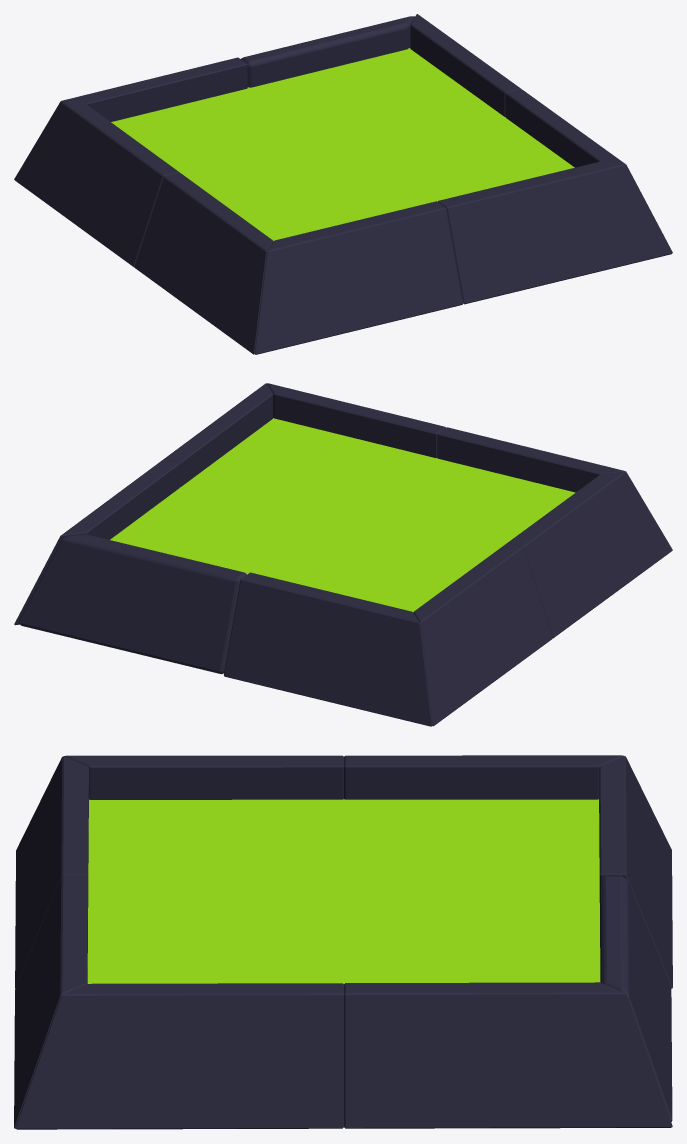
The model's file is pool.fbx.
3 views of the same model, one above another, from view 1: azimuth 30°, elevation 25°; view 2: azimuth 150°, elevation 25°; view 3: azimuth 270°, elevation 25° (orthographic). The views are drawn at different scales.
Visible parts, largest first — view 1: Vert.021; view 2: Vert.021; view 3: Vert.021.
Part boxes in pixels (<box>): Vert.021: <box>14,14,672,354</box>; Vert.021: <box>14,383,672,726</box>; Vert.021: <box>14,755,672,1129</box>.
Size of the model in its own units: 3327 by 642 by 3316.
